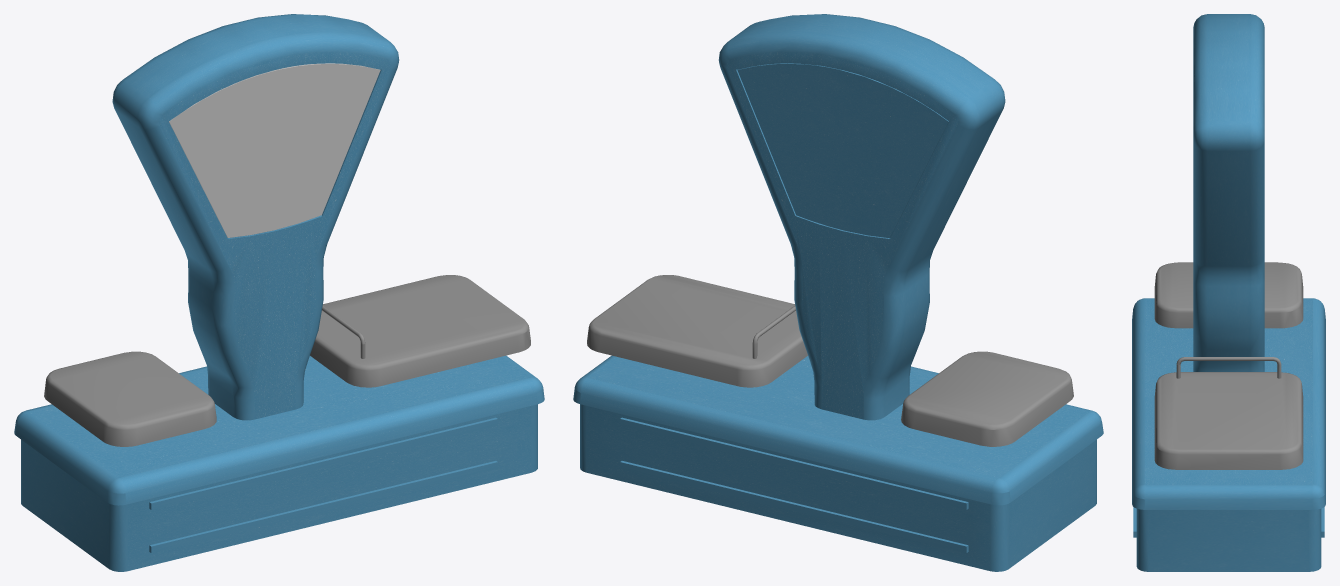
File: bilancia.fbx
3 views of the same model, side by side, from view 1: azimuth 30°, elevation 25°; view 2: azimuth 150°, elevation 25°; view 3: azimuth 270°, elevation 25° (orthographic). The views are drawn at different scales.
Visible parts, largest first — view 1: bilancia_asm_stp; view 2: bilancia_asm_stp; view 3: bilancia_asm_stp.
Part boxes in pixels (x1,y1,x2,y2): bilancia_asm_stp: (14, 14, 544, 571); bilancia_asm_stp: (573, 14, 1103, 571); bilancia_asm_stp: (1132, 14, 1325, 571).
Size of the model in its own units: 89.51 by 89.87 by 37.12.
